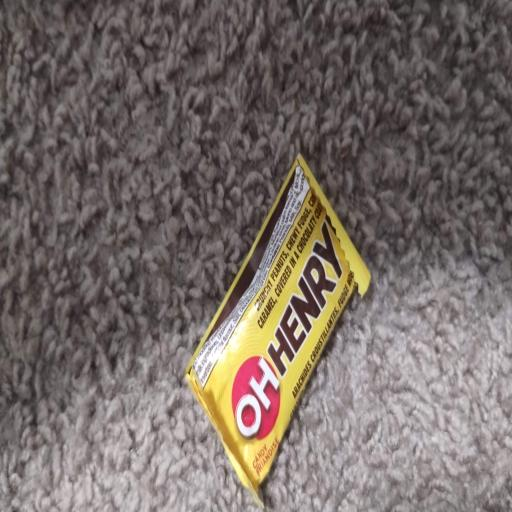chocolate: (186, 156, 370, 506)
